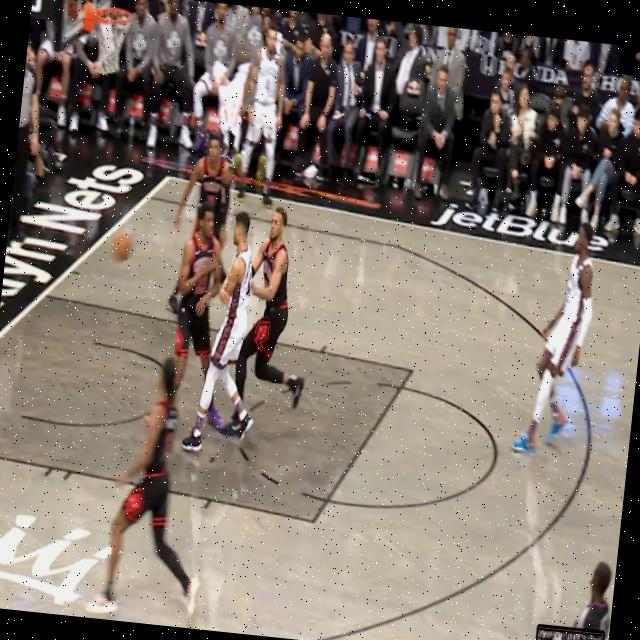foul: (128, 174, 342, 481)
no foul: (92, 352, 199, 626)
